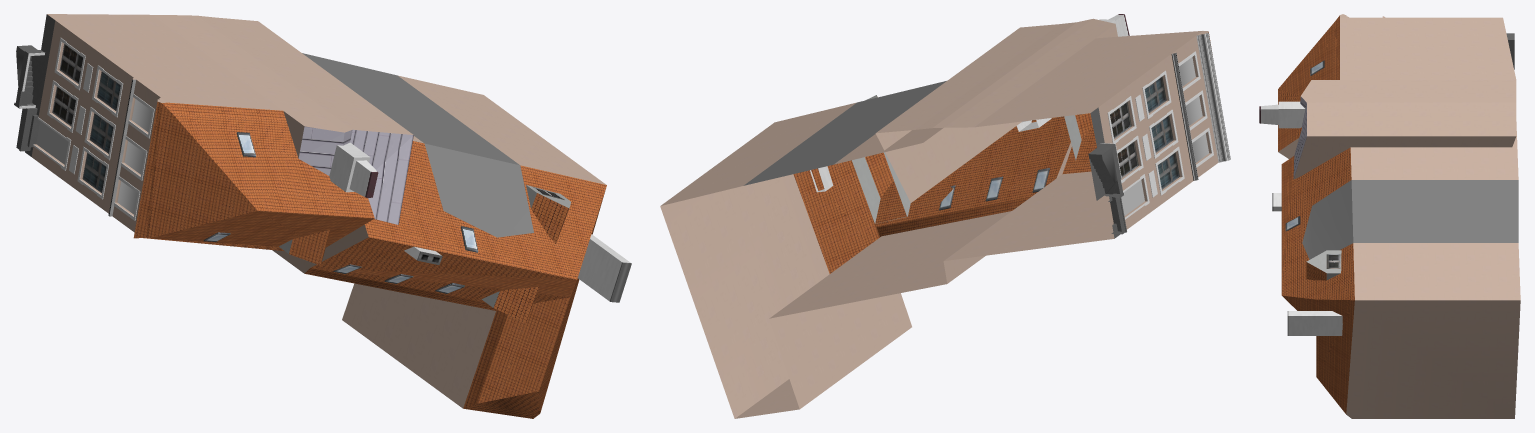
The model's file is Kullassepa_7.obj.
3 views of the same model, side by side, from view 1: azimuth 30°, elevation 25°; view 2: azimuth 150°, elevation 25°; view 3: azimuth 270°, elevation 25° (orthographic). The views are drawn at different scales.
Visible parts, largest first — view 1: Kullassepa_7; view 2: Kullassepa_7; view 3: Kullassepa_7.
Boxes of the visible parts, box(x1,y1,x2,y2) form: Kullassepa_7: box(14, 14, 631, 418); Kullassepa_7: box(660, 14, 1230, 418); Kullassepa_7: box(1259, 14, 1520, 418).
Size of the model in its own units: 26.6 by 21.87 by 18.54.
